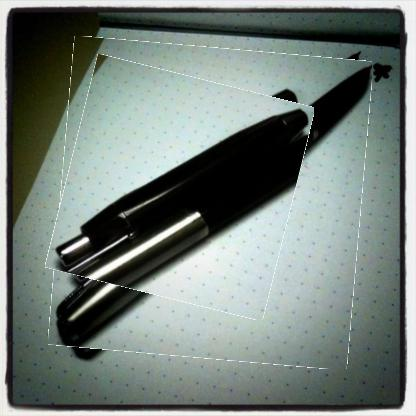Pen: (55, 42, 367, 364), (57, 66, 304, 310)
